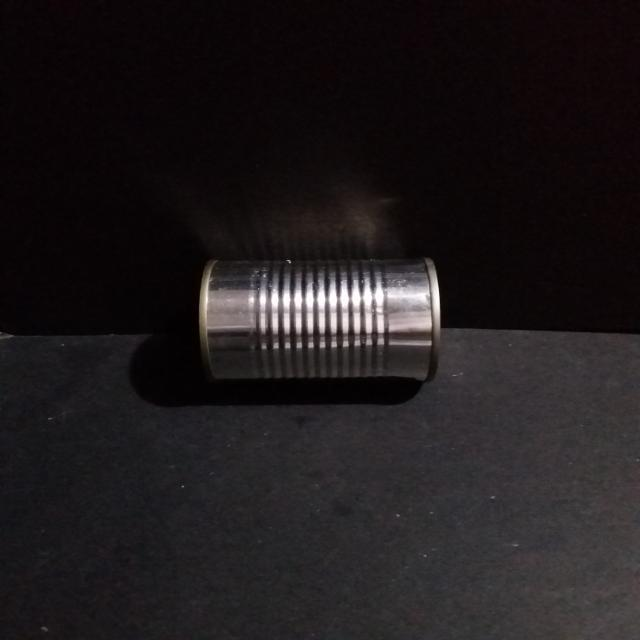metal-can: (193, 253, 445, 390)
